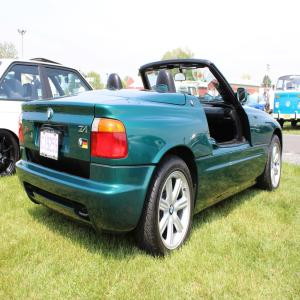Vehicle-registration-plate: (39, 125, 58, 163), (285, 115, 292, 121)
